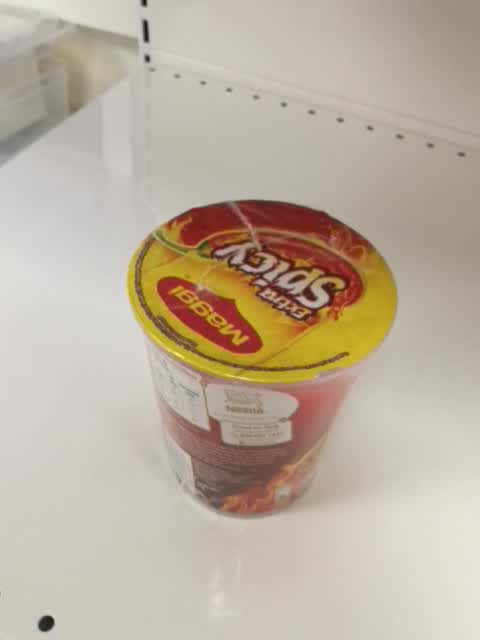maggi: (124, 198, 399, 521)
